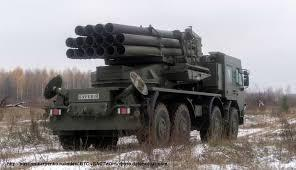MIL_SAM_TEL: (46, 23, 248, 141)
